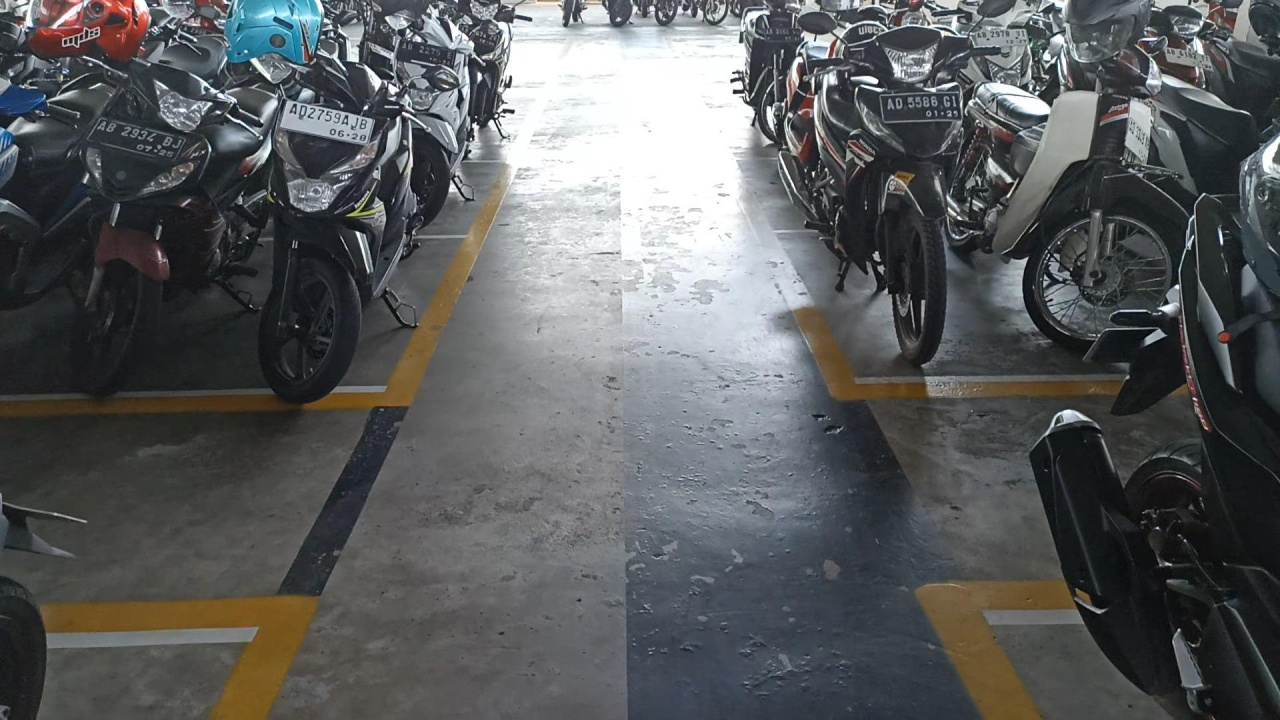plate: (87, 117, 187, 162), (279, 100, 375, 145), (879, 92, 962, 123), (397, 39, 455, 69), (1165, 48, 1213, 71), (975, 29, 1029, 47)
